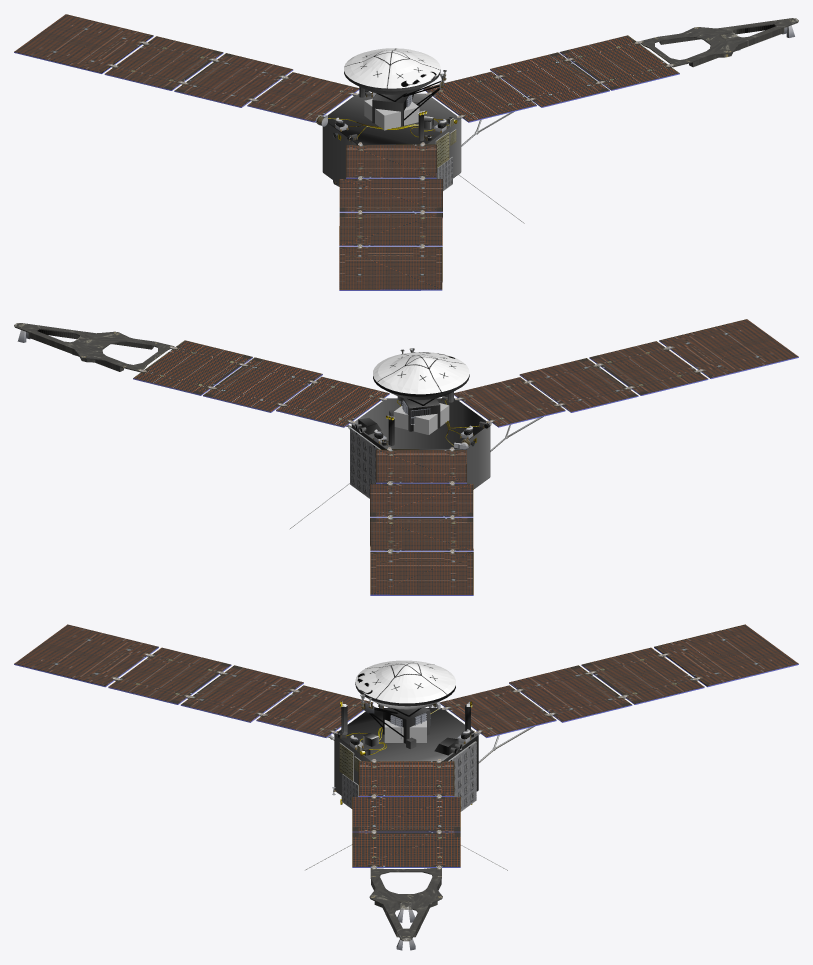
File: juno.obj
The picture shows the model from 3 angles, top to bottom: view 1: azimuth 30°, elevation 25°; view 2: azimuth 150°, elevation 25°; view 3: azimuth 270°, elevation 25°; orthographic projection. The views are drawn at different scales.
Parts seen in each view (by area): view 1: shiny_panels_Geometry-Body.021, silver_foil_Geometry-Body.002, dish_top_2_Geometry-Mesh.003, solar_panels_Geometry-Body.006, black_krinkle_Geometry-Body.007, tex_01_Geometry-Body.003, _root_Cube.004, dish_bottom_Geometry-Mesh; view 2: shiny_panels_Geometry-Body.021, silver_foil_Geometry-Body.002, dish_top_2_Geometry-Mesh.003, tex_01_Geometry-Body.003, solar_panels_Geometry-Body.006, black_krinkle_Geometry-Body.007, _root_Cube.004; view 3: shiny_panels_Geometry-Body.021, silver_foil_Geometry-Body.002, tex_01_Geometry-Body.003, dish_top_2_Geometry-Mesh.003, solar_panels_Geometry-Body.006, black_krinkle_Geometry-Body.007, _root_Cube.004.
Boxes of the visible parts, left/top/right/bottom form: shiny_panels_Geometry-Body.021: left=14, top=14, right=679, bottom=289; silver_foil_Geometry-Body.002: left=322, top=87, right=461, bottom=186; dish_top_2_Geometry-Mesh.003: left=344, top=48, right=440, bottom=88; solar_panels_Geometry-Body.006: left=639, top=18, right=798, bottom=67; black_krinkle_Geometry-Body.007: left=14, top=36, right=679, bottom=290; tex_01_Geometry-Body.003: left=110, top=25, right=794, bottom=247; _root_Cube.004: left=364, top=98, right=419, bottom=130; dish_bottom_Geometry-Mesh: left=344, top=69, right=440, bottom=94; shiny_panels_Geometry-Body.021: left=133, top=319, right=798, bottom=594; silver_foil_Geometry-Body.002: left=351, top=391, right=490, bottom=489; dish_top_2_Geometry-Mesh.003: left=373, top=352, right=469, bottom=393; tex_01_Geometry-Body.003: left=17, top=330, right=702, bottom=552; solar_panels_Geometry-Body.006: left=14, top=323, right=173, bottom=371; black_krinkle_Geometry-Body.007: left=133, top=340, right=798, bottom=595; _root_Cube.004: left=393, top=403, right=449, bottom=434; shiny_panels_Geometry-Body.021: left=14, top=624, right=798, bottom=866; silver_foil_Geometry-Body.002: left=334, top=704, right=478, bottom=800; tex_01_Geometry-Body.003: left=112, top=653, right=699, bottom=950; dish_top_2_Geometry-Mesh.003: left=355, top=660, right=455, bottom=703; solar_panels_Geometry-Body.006: left=369, top=868, right=442, bottom=941; black_krinkle_Geometry-Body.007: left=14, top=647, right=798, bottom=867; _root_Cube.004: left=384, top=720, right=426, bottom=742.
Bounding box in the file's own units: 17.65 × 4.25 × 18.54.
Materials: 18 (16 with a texture image).
